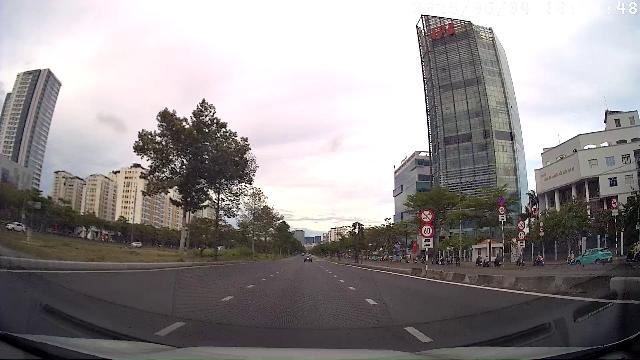127-toc-do-toi-da-60: (420, 224, 434, 238), (518, 230, 526, 240)
130-cam-dung-va-do-xe: (498, 195, 506, 206)
